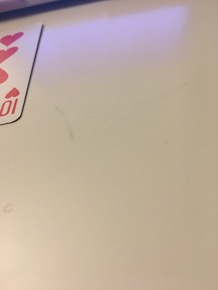TenOfHearts: (1, 20, 49, 126)
